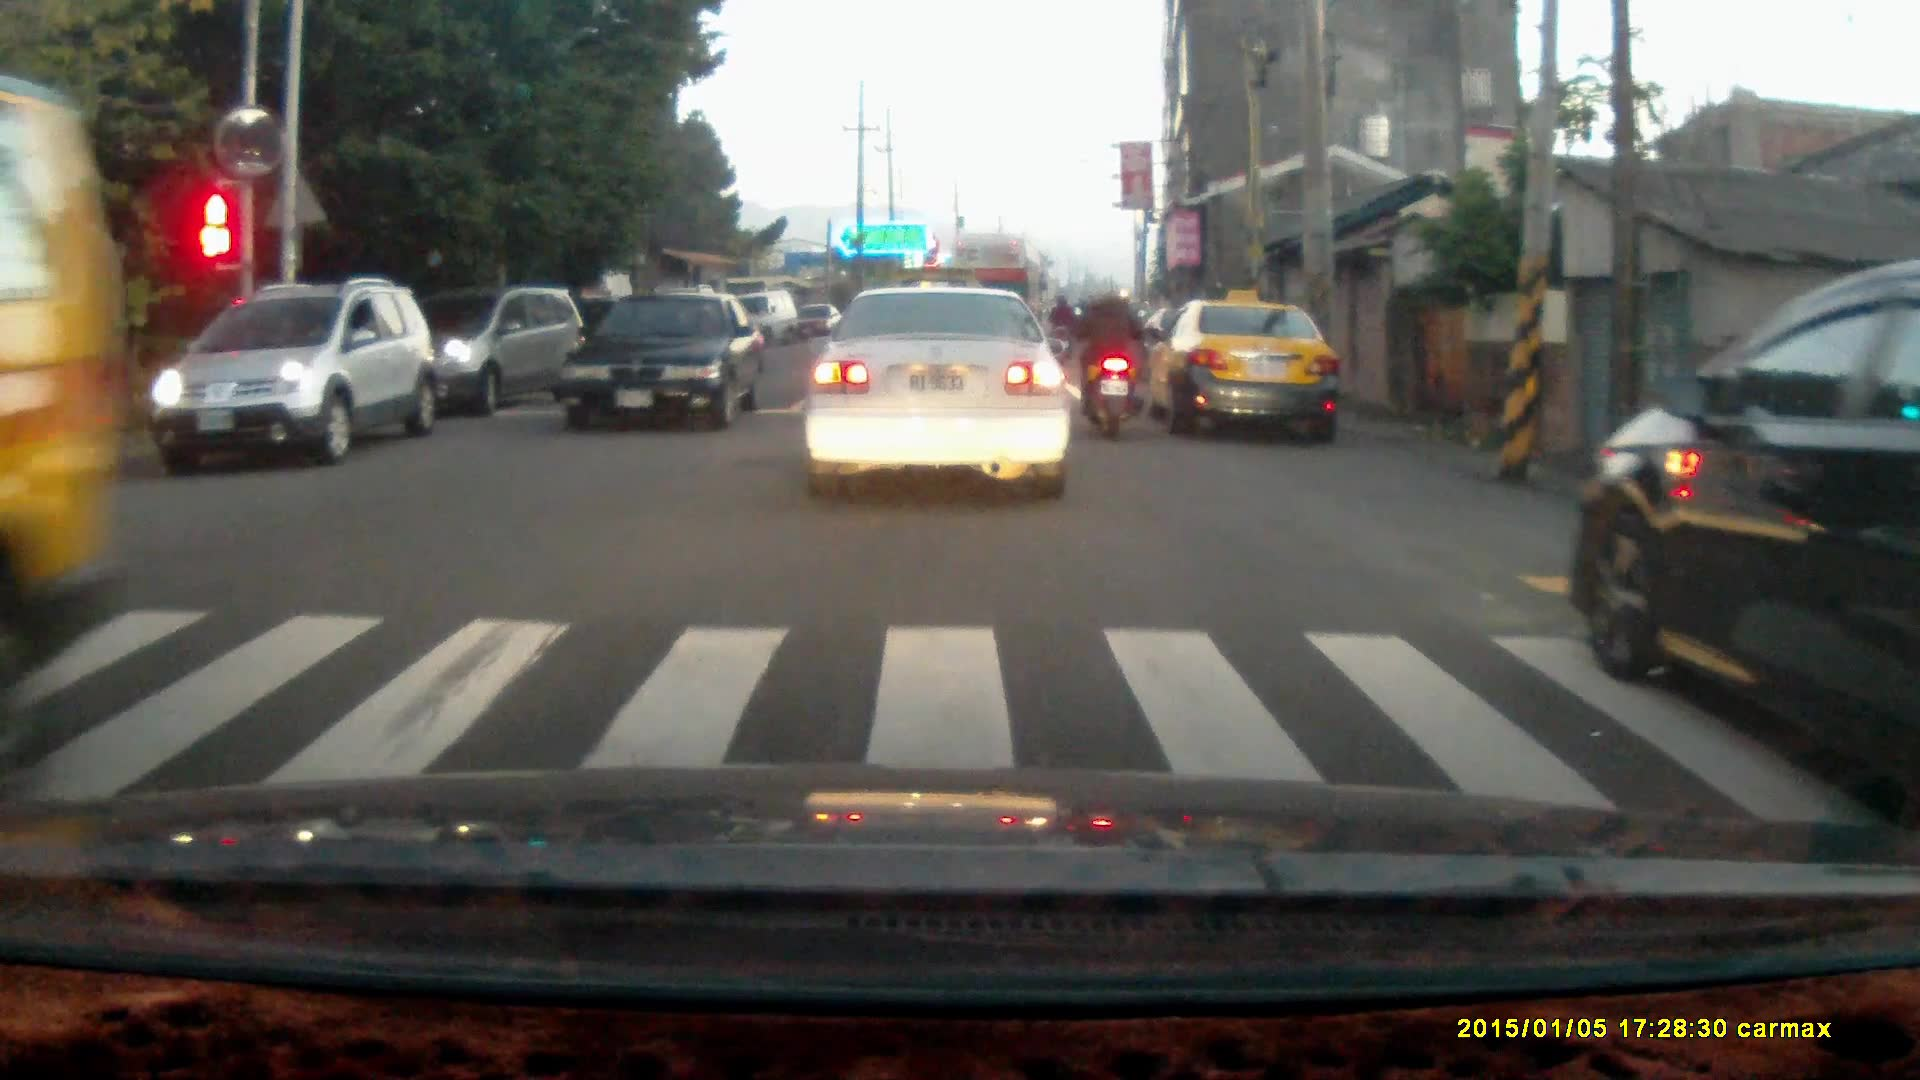rider: (1072, 274, 1148, 441)
vehicle: (1591, 281, 1920, 768), (1, 84, 134, 739), (804, 283, 1078, 502), (156, 281, 438, 470), (559, 286, 767, 436), (1149, 299, 1340, 441)
